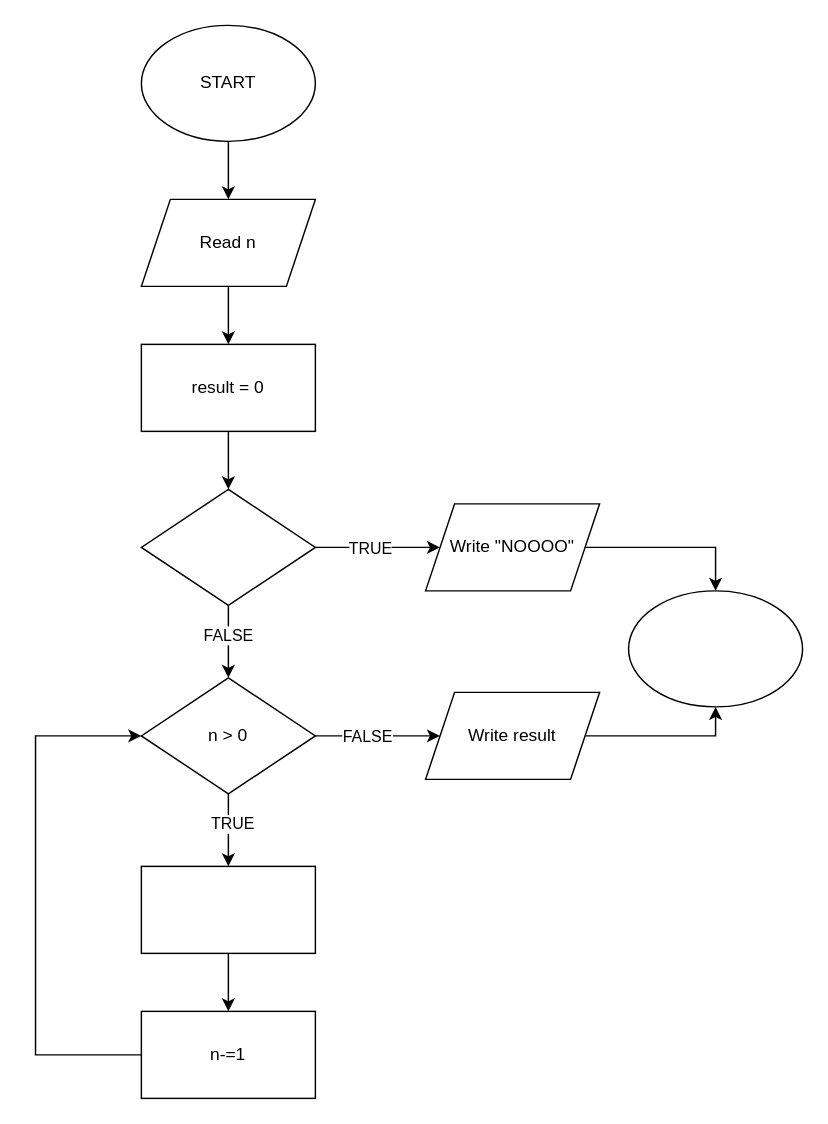
This 828x1124 diagram has some shape labels left out. The centre of each missing label's shape, as x and y in pixels:
END: point (715, 648)
n < 0 AND n % 1 == 0: point (227, 546)
result += n*n: point (227, 909)
